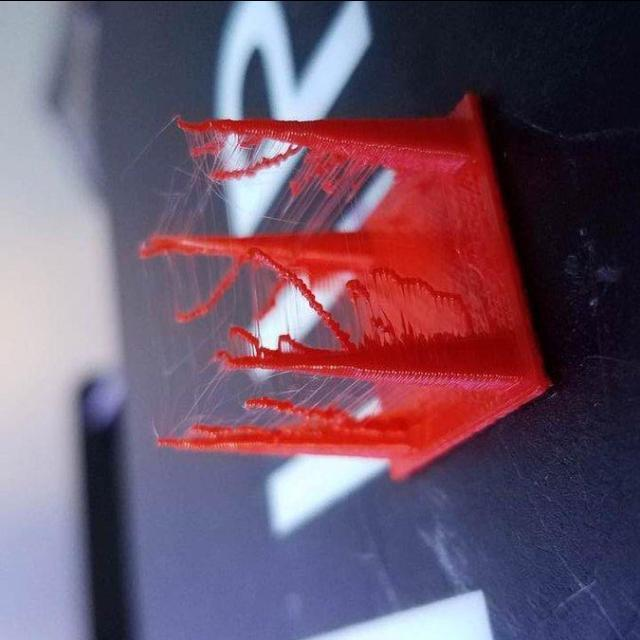Stringing: (125, 154, 345, 414)
